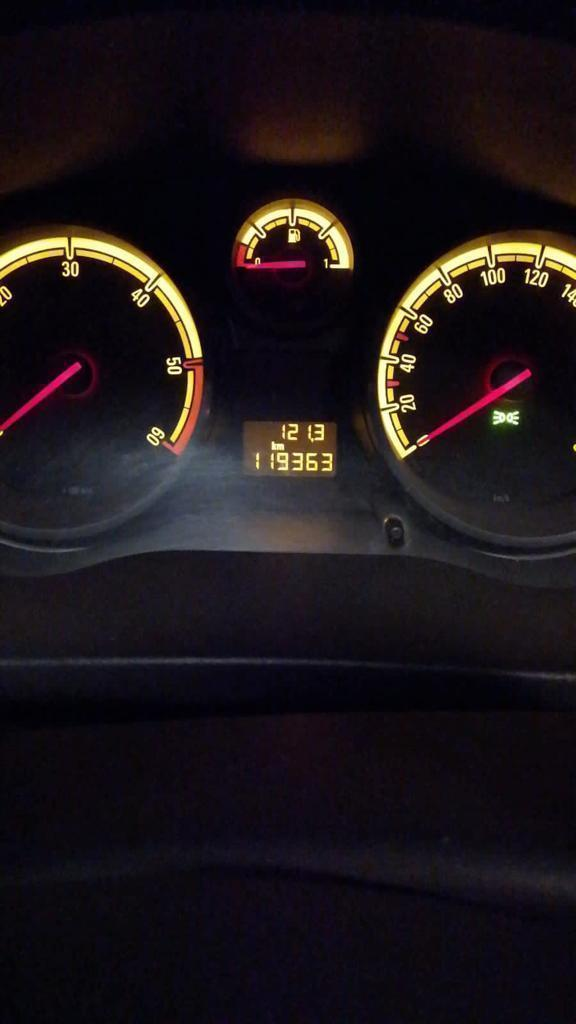,: (311, 436, 314, 443)
1: (253, 450, 261, 470), (269, 451, 275, 470), (281, 423, 287, 440), (307, 423, 312, 439)
2: (287, 422, 299, 441)
3: (321, 451, 333, 472), (291, 451, 303, 471), (313, 422, 325, 441)
6: (305, 451, 319, 472)
9: (276, 450, 289, 471)
X: (270, 439, 276, 450), (277, 443, 284, 450)
odometer: (242, 419, 339, 480)
